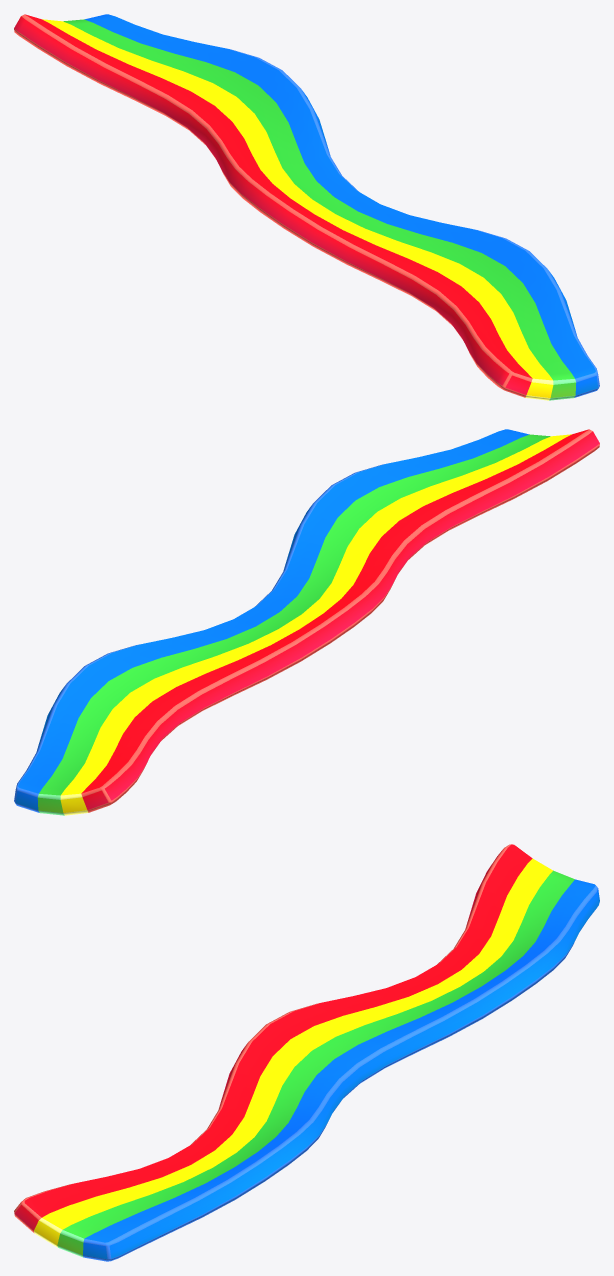
The model's file is Marmalade_01.glb.
The picture shows the model from 3 angles, top to bottom: view 1: azimuth 30°, elevation 25°; view 2: azimuth 150°, elevation 25°; view 3: azimuth 330°, elevation 25°; orthographic projection.
Parts seen in each view (by area): view 1: Marmalade_01; view 2: Marmalade_01; view 3: Marmalade_01.
Part boxes in pixels (<box>): Marmalade_01: <box>14,14,599,400</box>; Marmalade_01: <box>14,429,599,815</box>; Marmalade_01: <box>14,844,599,1261</box>.
Bounding box in the file's own units: 4.03 × 1.05 × 22.16.
1 material, 1 textured.
